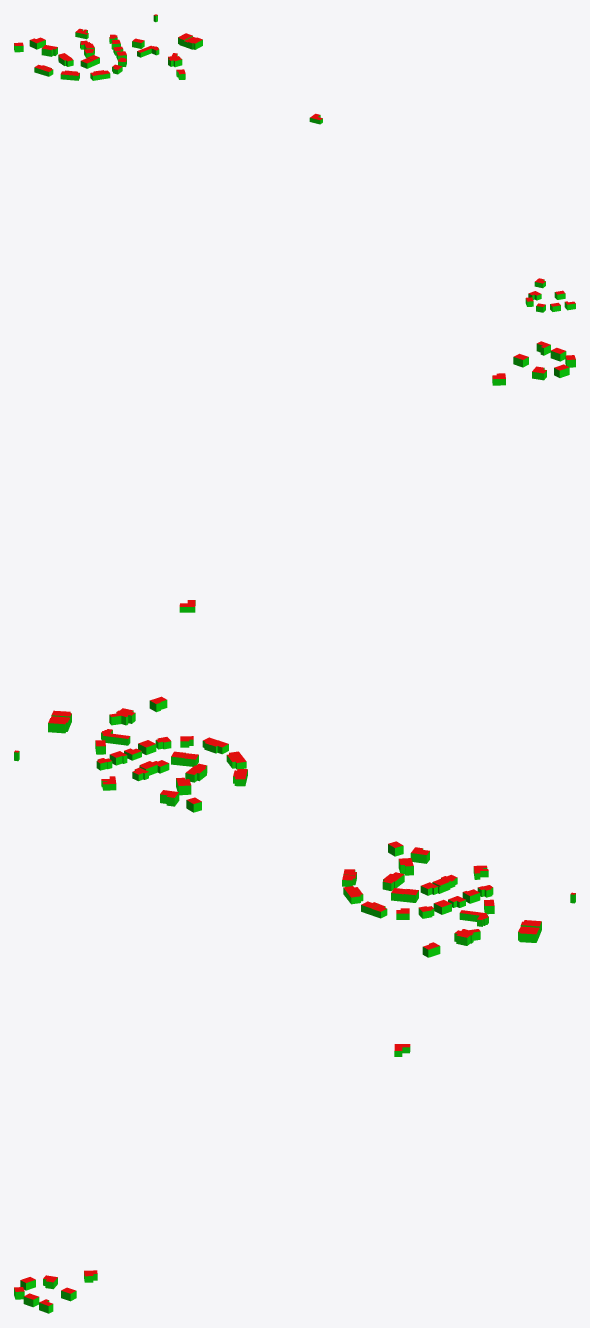
The picture shows the model from 3 angles, top to bottom: view 1: azimuth 30°, elevation 25°; view 2: azimuth 150°, elevation 25°; view 3: azimuth 330°, elevation 25°; orthographic projection. The views are drawn at different scales.
Parts seen in each view (by area): view 1: mesh; view 2: mesh; view 3: mesh.
Boxes of the visible parts, <box> form: mesh: <box>14,14,575,312</box>; mesh: <box>14,341,575,812</box>; mesh: <box>14,841,575,1313</box>.
Size of the model in its own units: 446 by 17 by 1878.
